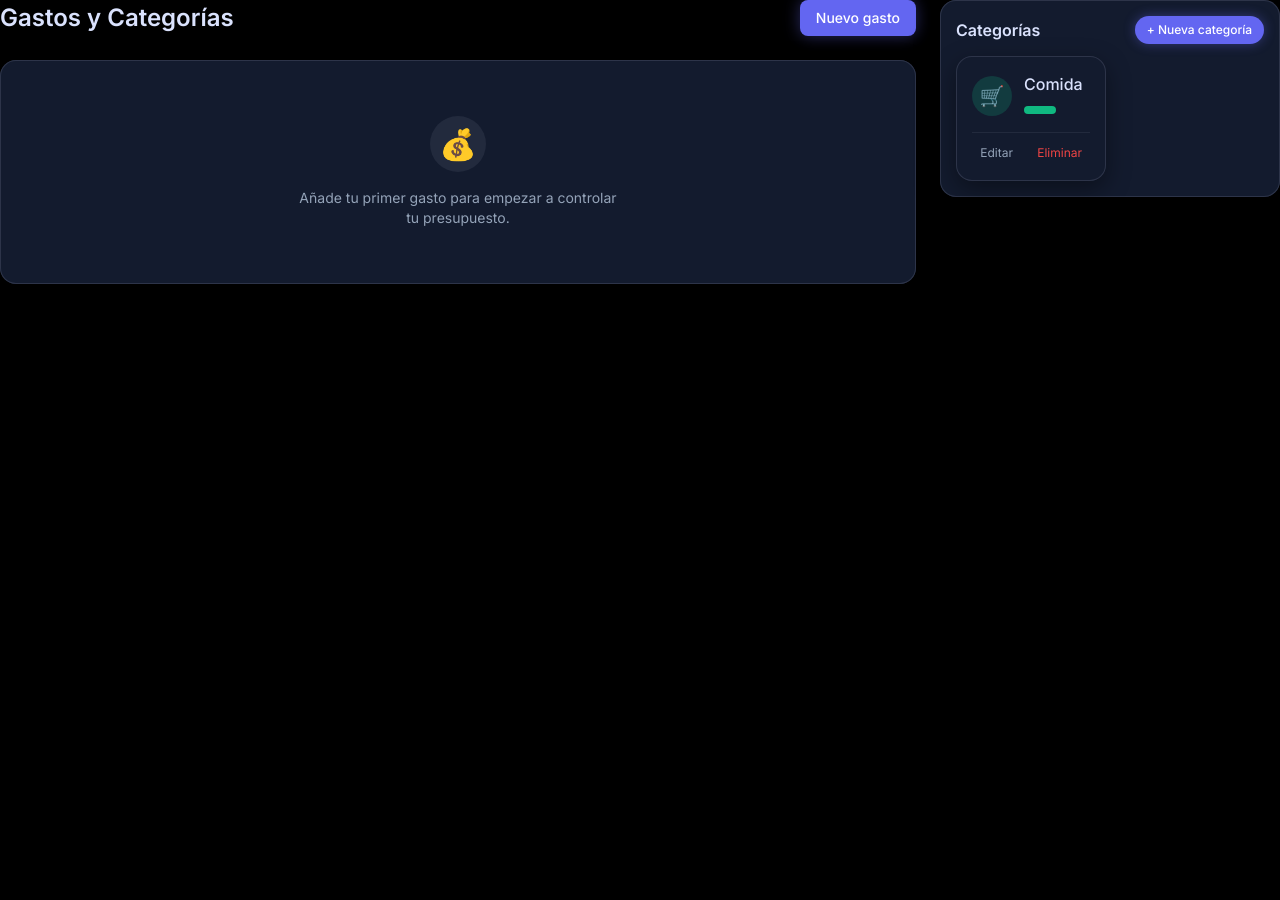
Scenario: ExpensesPage — active period › opens the expense form modal when add button is clicked
Click the button "Nuevo gasto" at point(858, 18), box top-left (800, 0), bottom-right (916, 36)
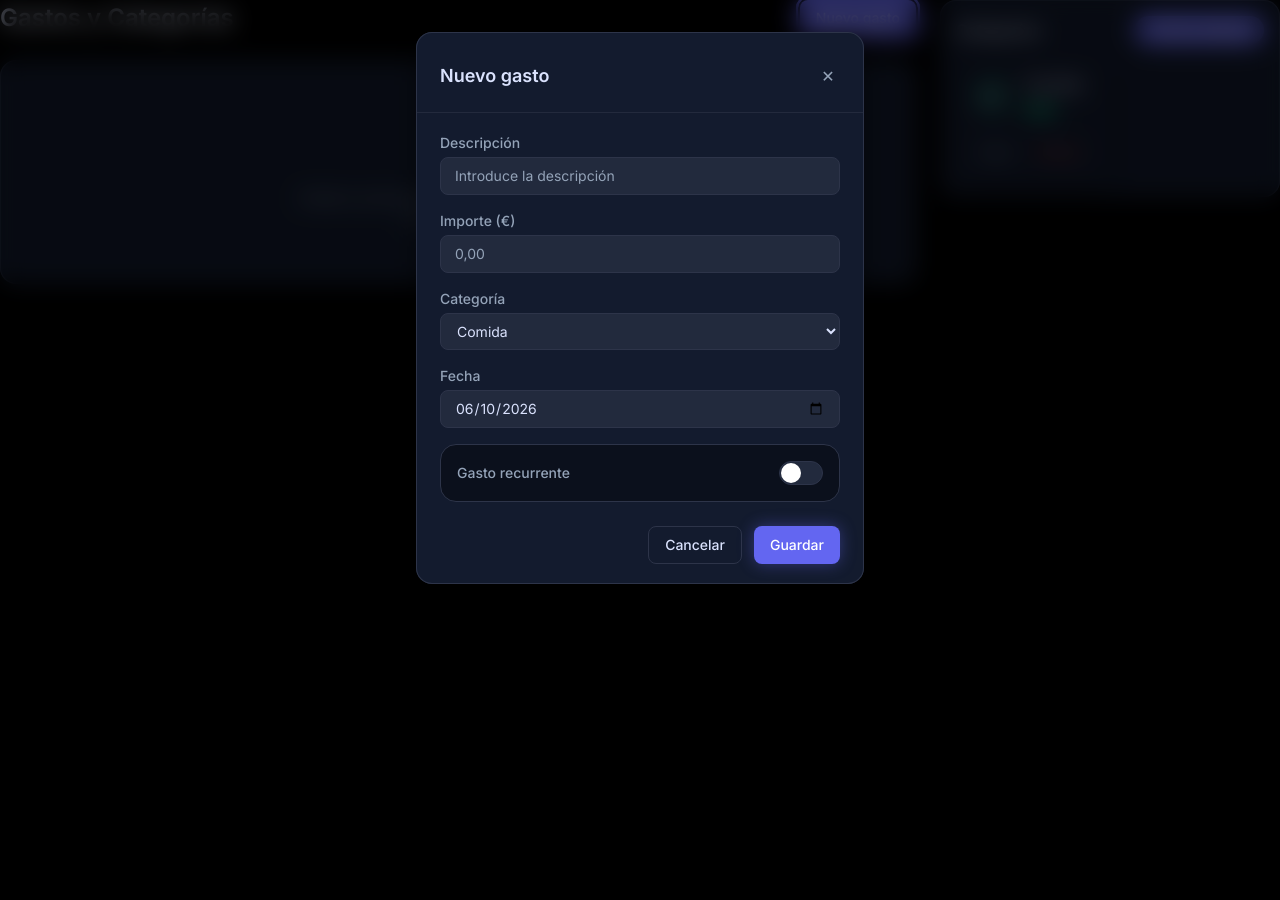
Result: the dialog is shown
